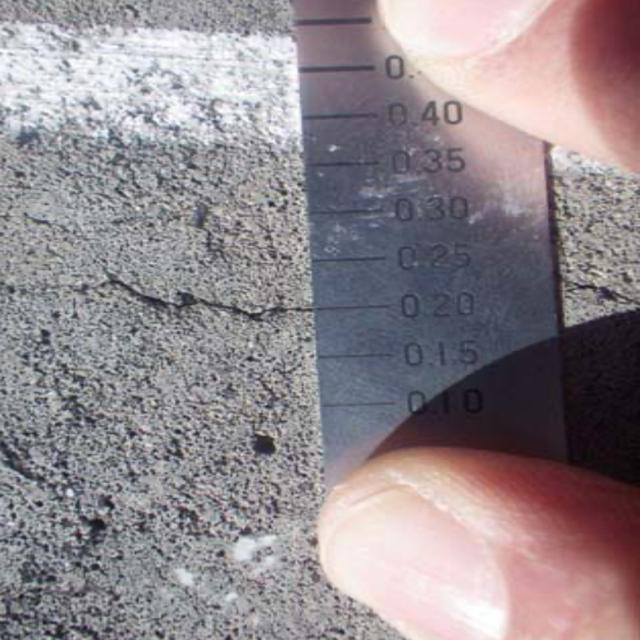crack: (14, 253, 310, 350), (562, 246, 634, 326)
